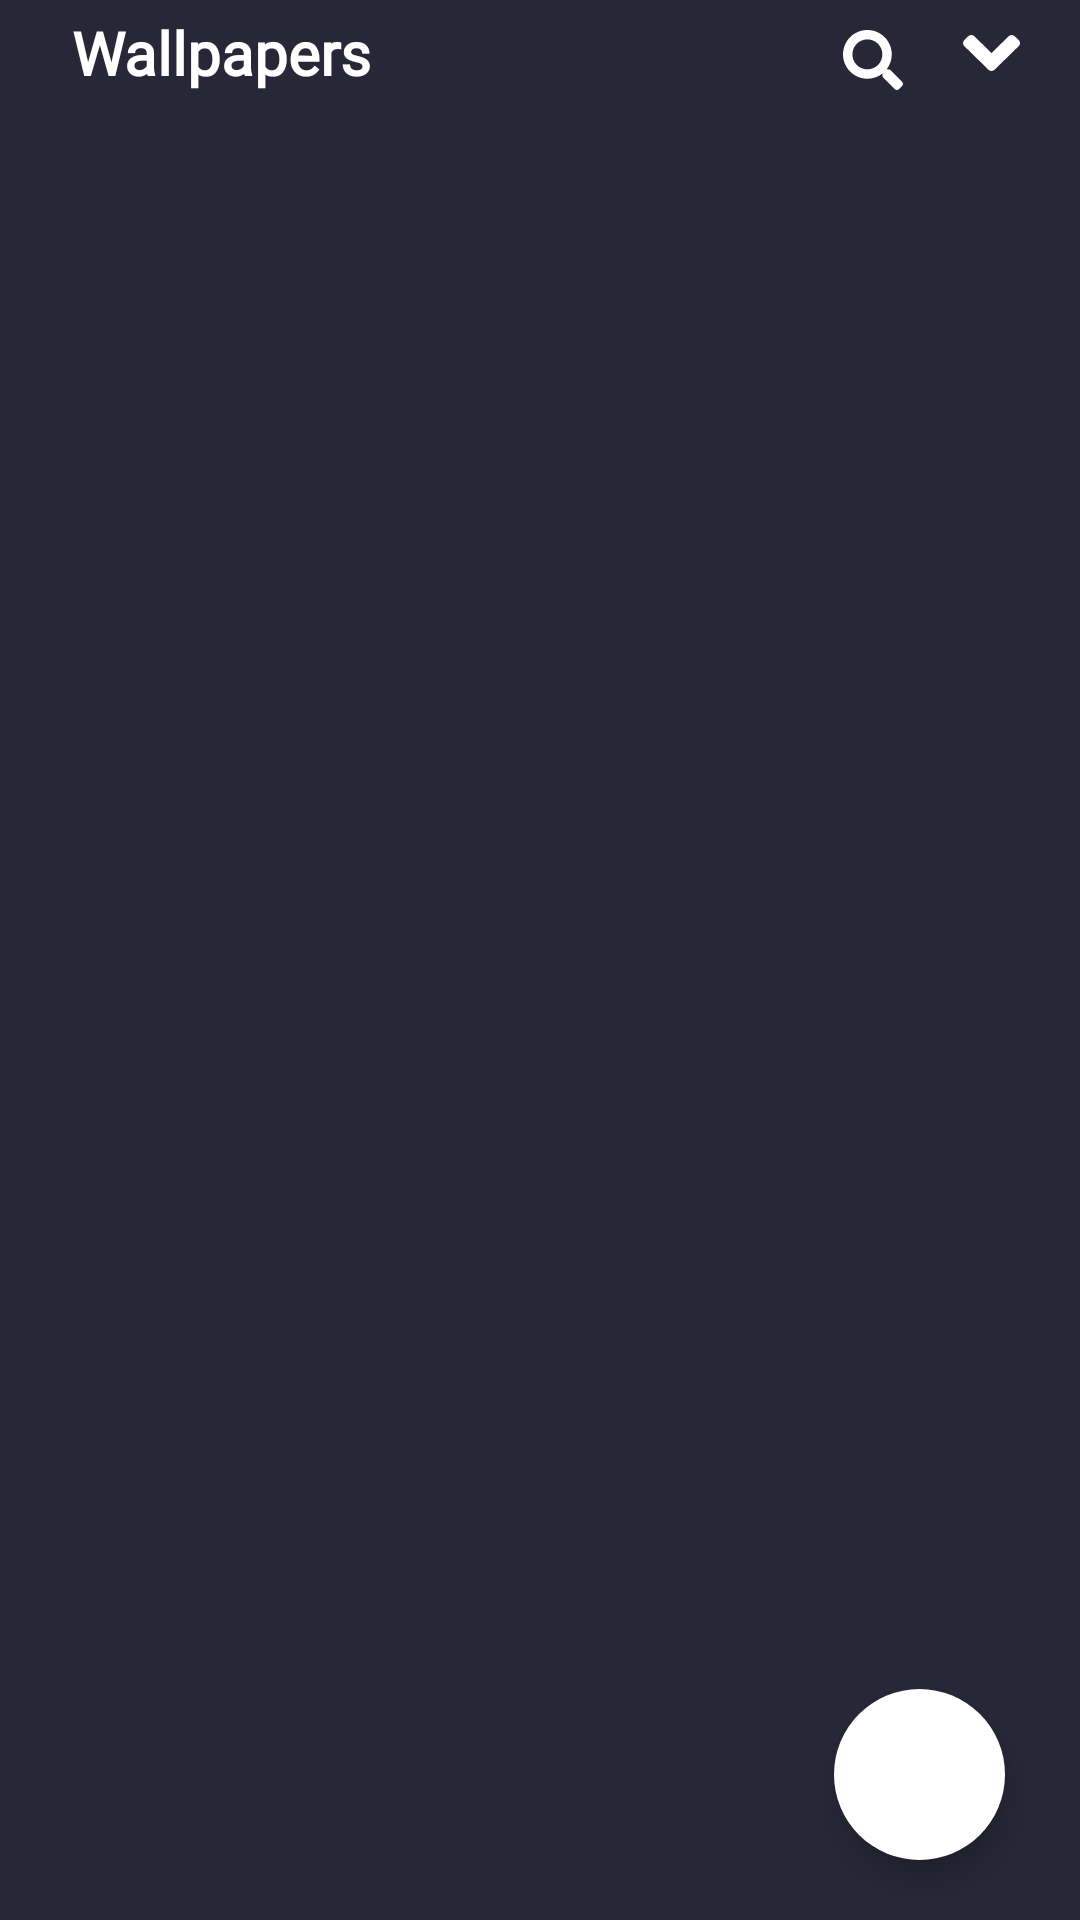

Locate icon controls on the screen. Image size 1080px×1920px, boxes as (x1, y1, x2, y2).
arrow down: (963, 35, 1020, 71)
find: (843, 30, 903, 90)
